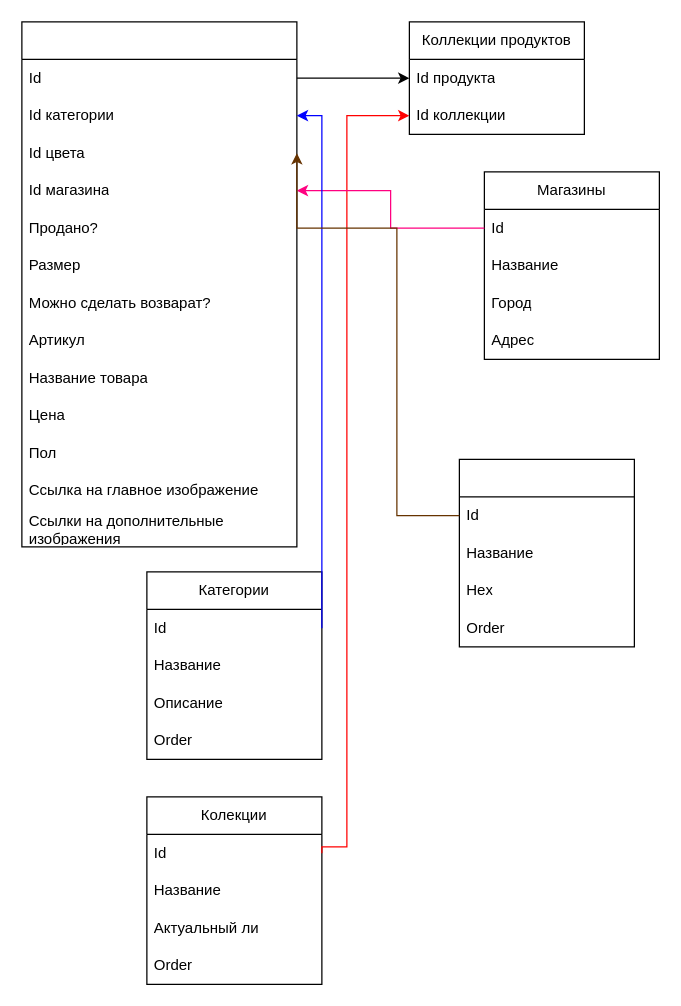
Image size: 681x1006. Some labels were removed from this diagram. The shapes that lost their labels are listed below. From the top down, each one's box as (x1, y1, x2, y2) in pixels, then its label:
(21, 21, 297, 547): Продукты
(458, 458, 634, 647): Цвета
